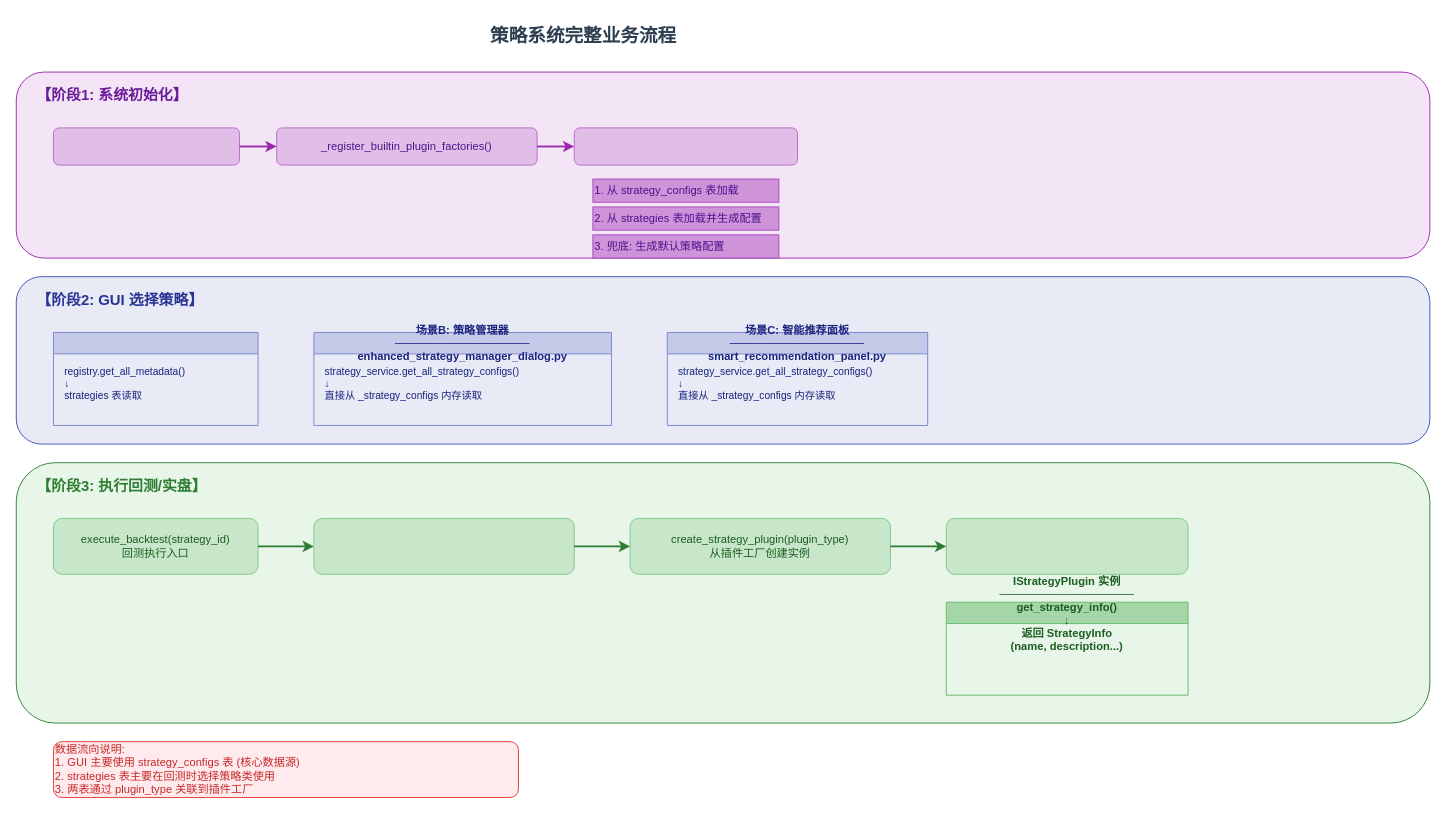
This 1446x814 diagram has some shape labels left out. The shapes that lost their labels are listed below. From the top down, each one's box as (x1, y1, x2, y2) in pixels, then its label:
(53, 127, 239, 165): StrategyService.__init__()
(573, 127, 797, 165): _load_strategy_configs()
(53, 332, 258, 425): 场景A: 回测 Widget ───────────────── backtest_widget.py
(313, 518, 574, 574): get_strategy_config(strategy_id) 从 _strategy_configs 读取配置
(945, 518, 1188, 574): _plugin_factories[plugin_type]() 调用工厂函数创建插件
